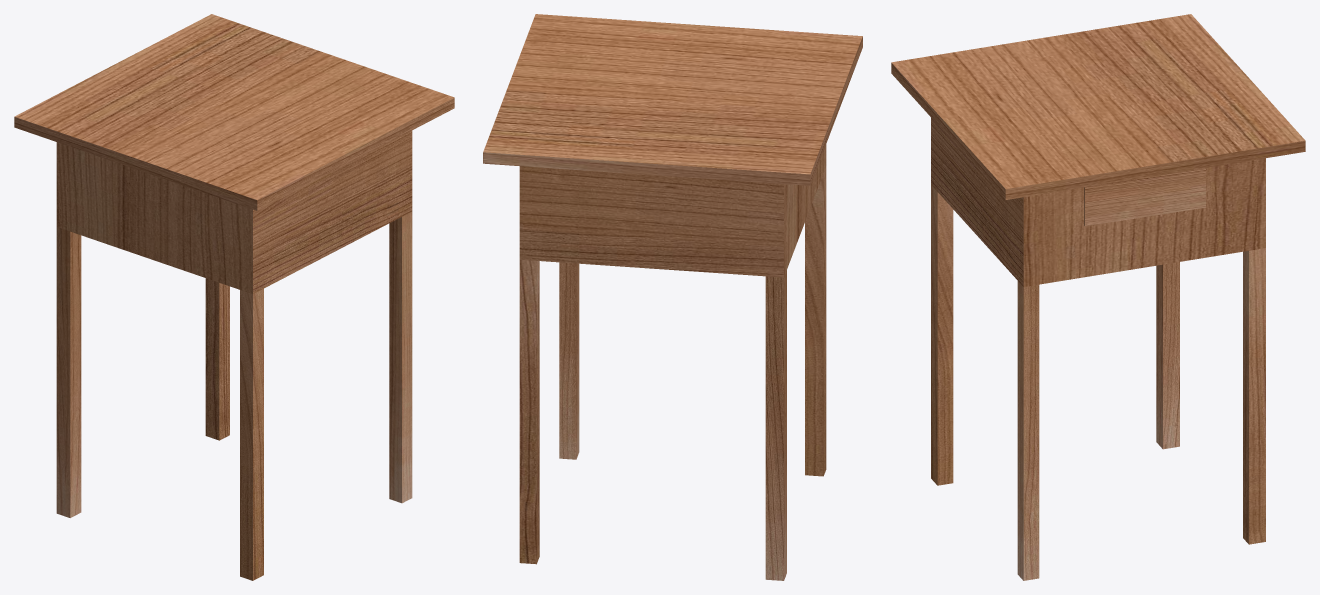
File: mesa.obj
3 renders of one model, left to right at view 1: azimuth 30°, elevation 25°; view 2: azimuth 150°, elevation 25°; view 3: azimuth 270°, elevation 25°, orthographic. The views are drawn at different scales.
Parts seen in each view (by area): view 1: cuerpo_Cube, tapa_Cube.001; view 2: tapa_Cube.001, cuerpo_Cube; view 3: cuerpo_Cube, tapa_Cube.001.
Boxes of the visible parts, left/top/right/bottom form: cuerpo_Cube: left=56, top=130, right=412, bottom=580; tapa_Cube.001: left=14, top=14, right=454, bottom=210; tapa_Cube.001: left=483, top=14, right=862, bottom=185; cuerpo_Cube: left=519, top=144, right=826, bottom=580; cuerpo_Cube: left=931, top=118, right=1265, bottom=580; tapa_Cube.001: left=891, top=14, right=1305, bottom=199.
Size of the model in its own units: 3.2 by 3.48 by 3.2.
Materials: 1 (1 with a texture image).
